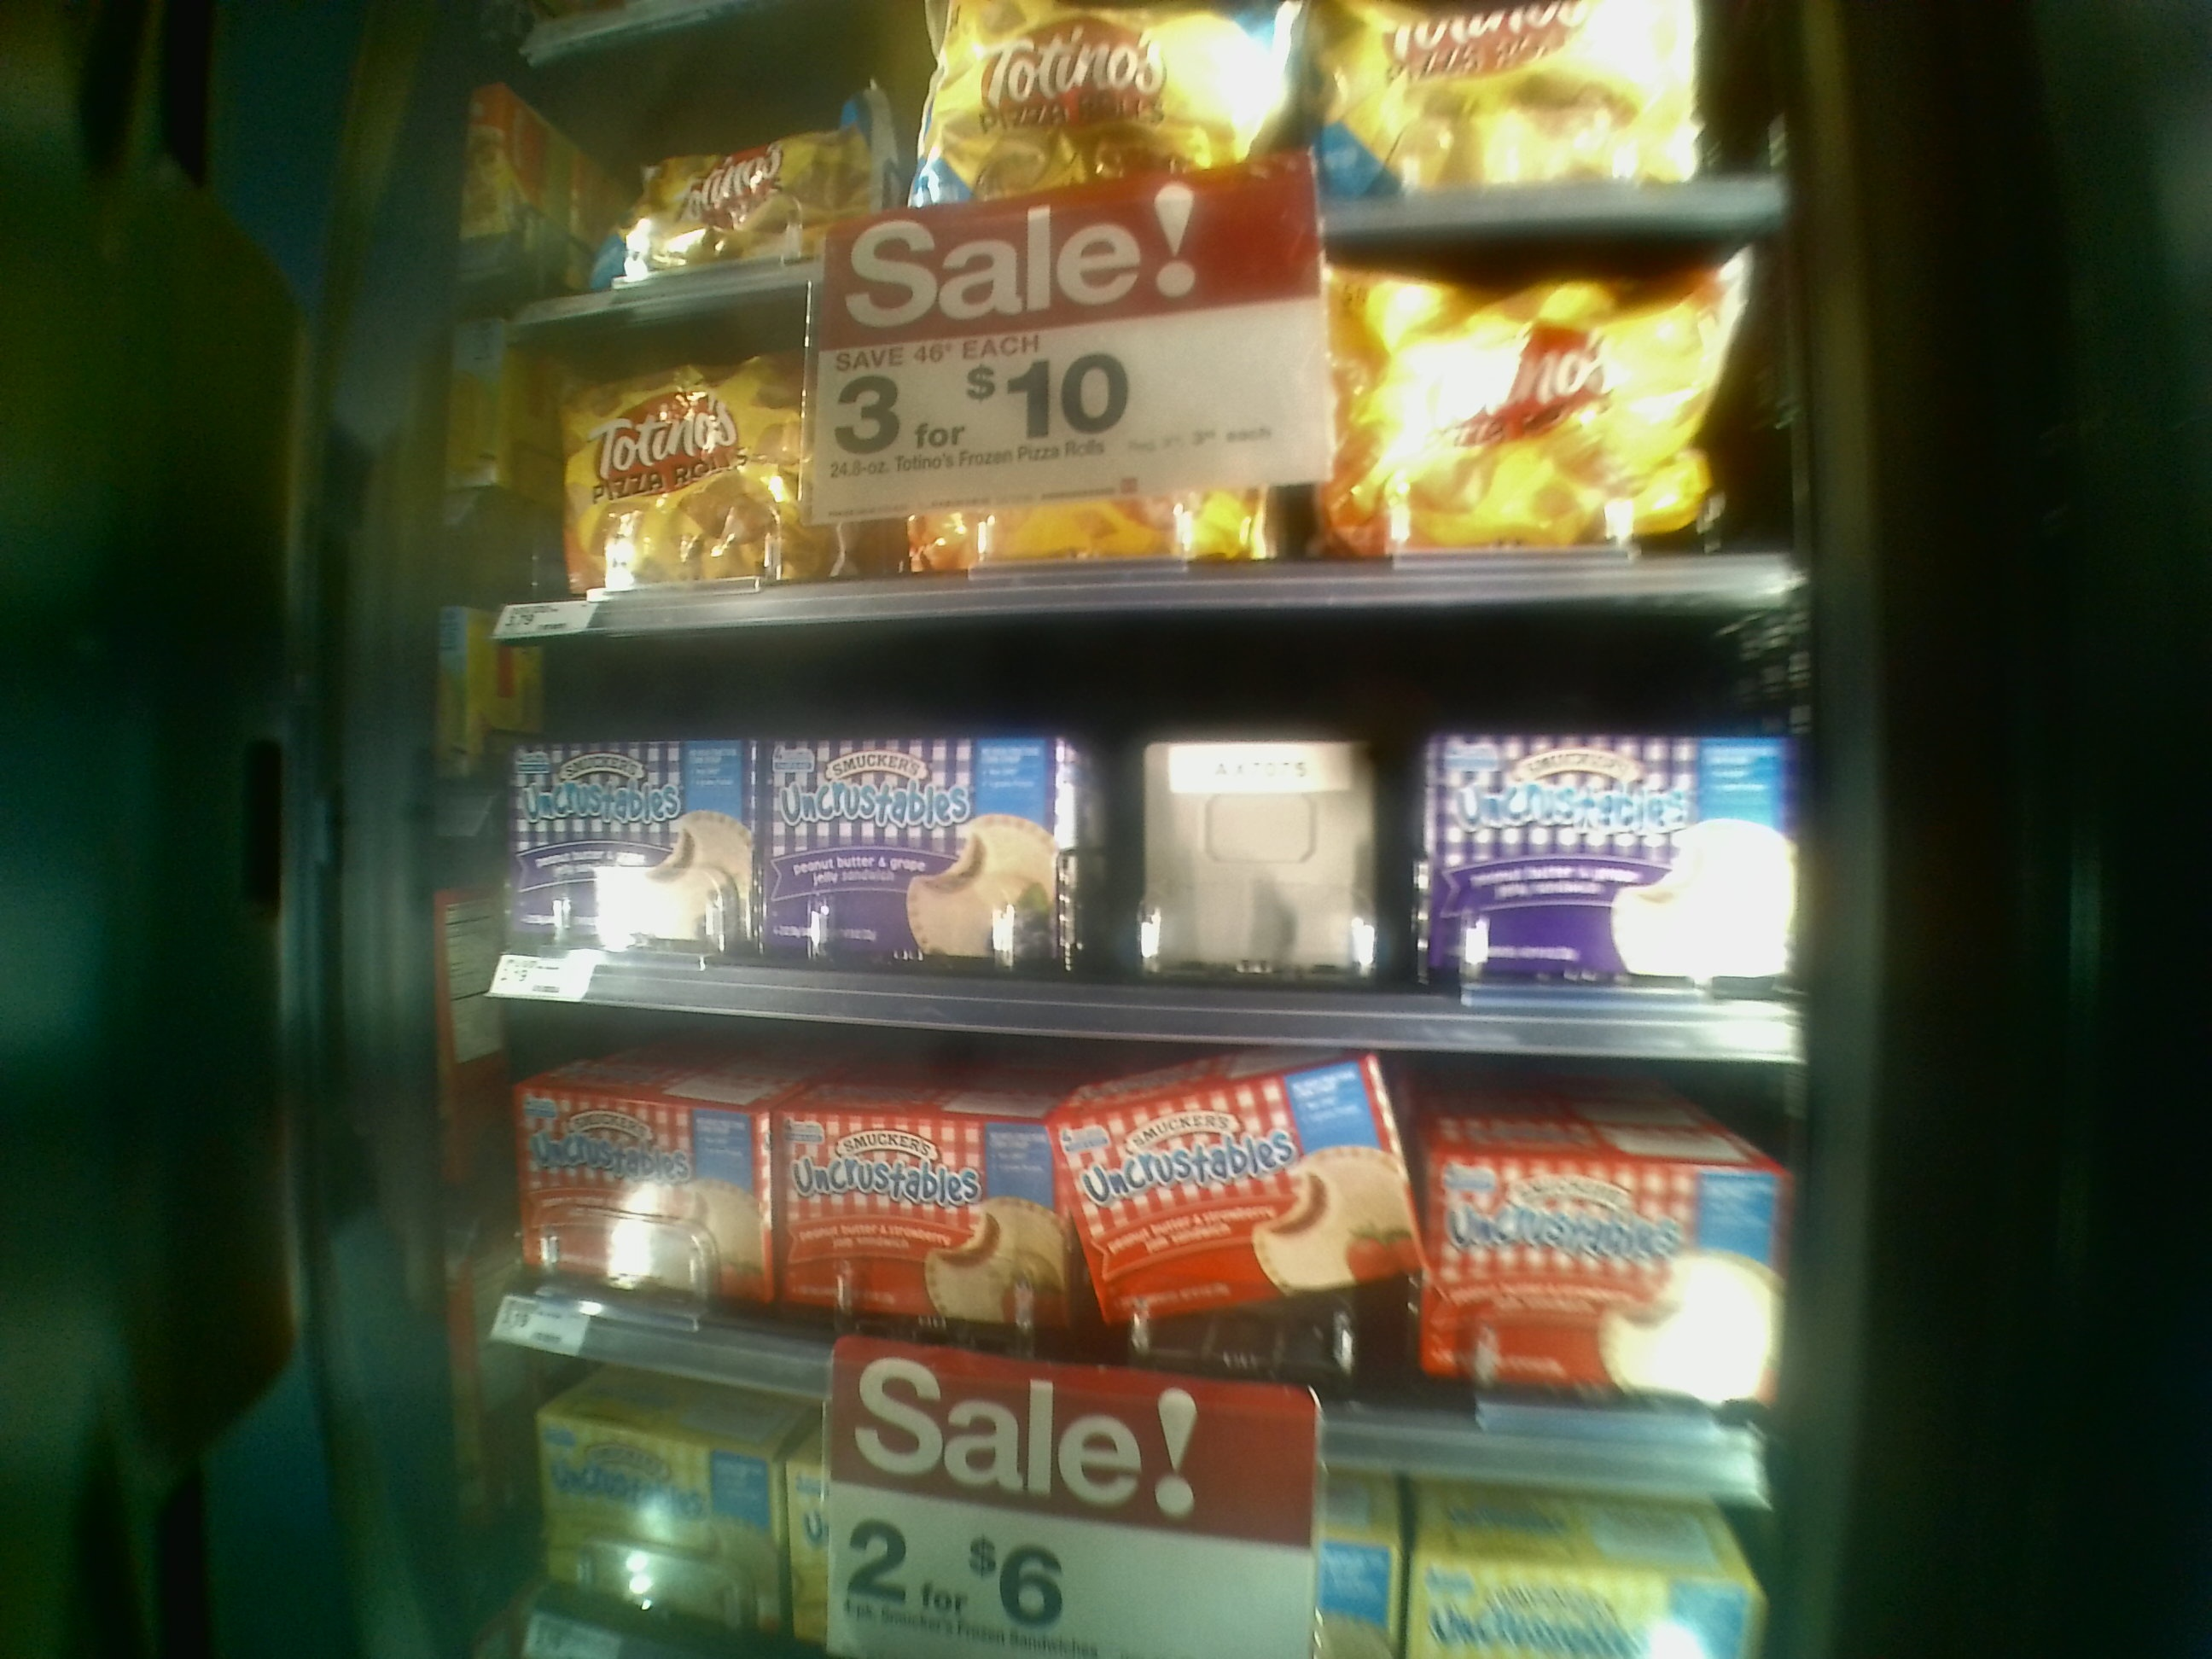shelf: (425, 1006, 1787, 1492), (441, 620, 1806, 1054), (467, 303, 1792, 622)
